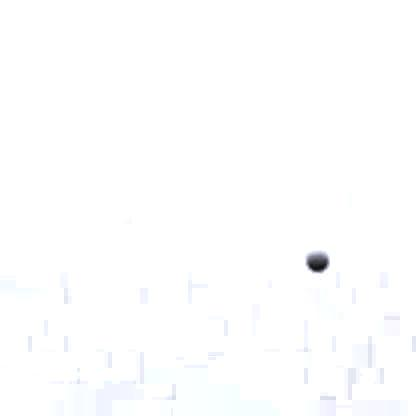golfball: (300, 247, 328, 272)
